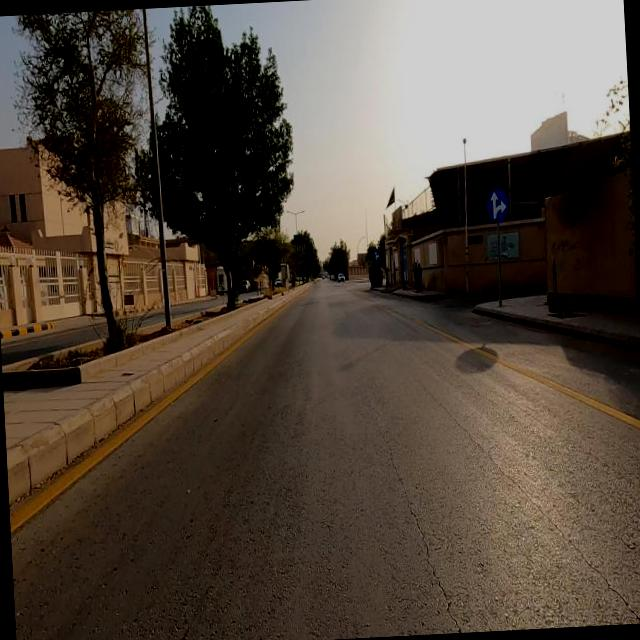debris: (457, 204, 554, 308), (528, 205, 606, 292)
